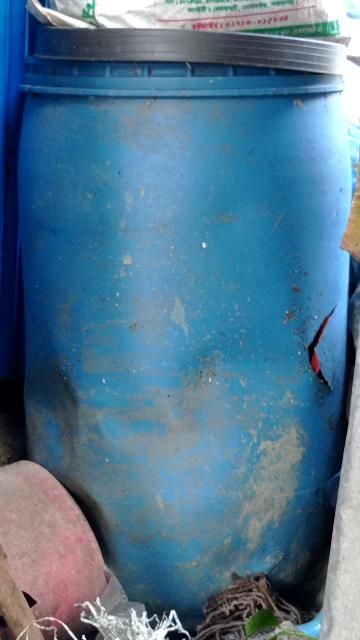hardplastic: (21, 27, 344, 596), (0, 443, 120, 638)
